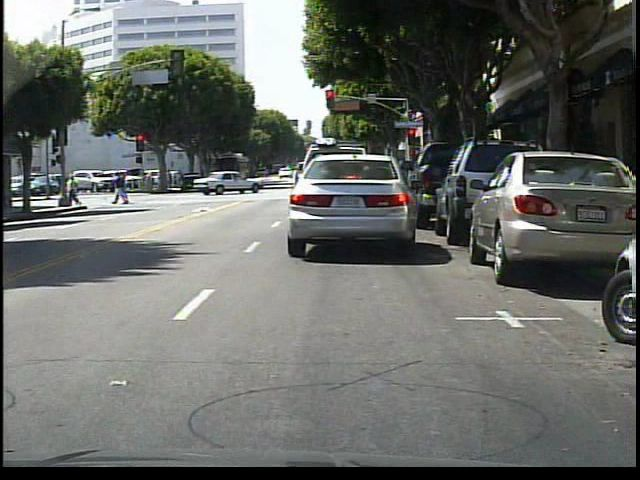person: (114, 173, 133, 206), (70, 173, 81, 207), (297, 167, 298, 191)
